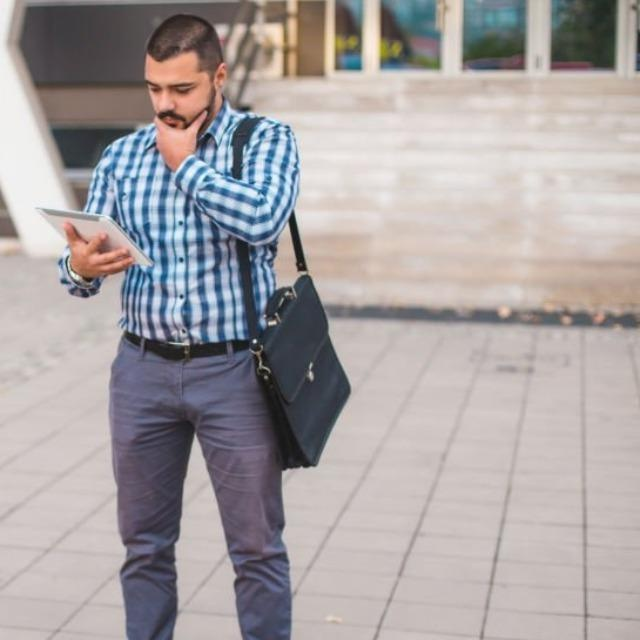Sin_Casco_Mascarrilla: (143, 11, 227, 133)
Sin_Chaleco: (105, 117, 291, 347)
